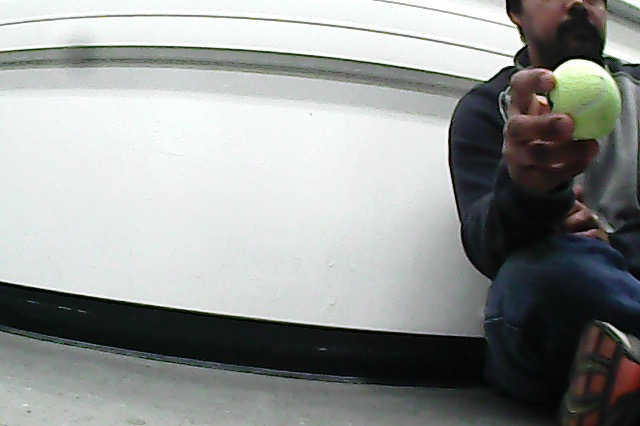ball: (544, 58, 625, 145)
